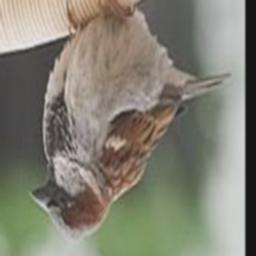Sparrow: (29, 0, 231, 242)
